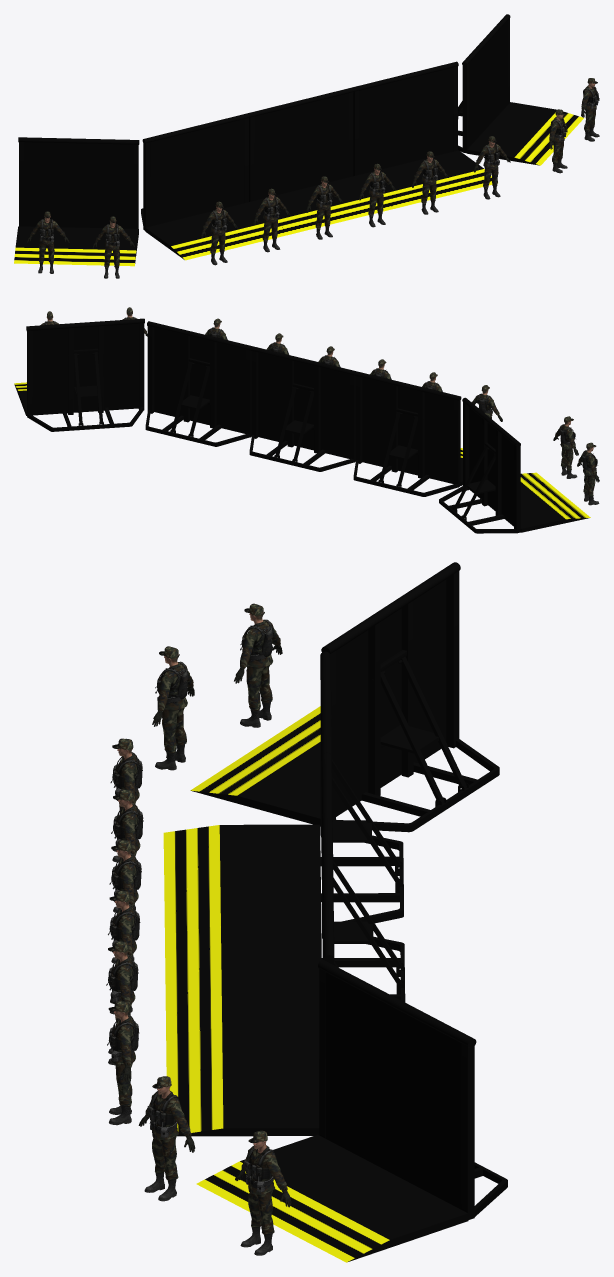
File: barricade_south.glb
The picture shows the model from 3 angles, top to bottom: view 1: azimuth 30°, elevation 25°; view 2: azimuth 150°, elevation 25°; view 3: azimuth 270°, elevation 25°; orthographic projection. The views are drawn at different scales.
Parts seen in each view (by area): view 1: Plane_0.003, Plane_0.001, Plane_0.002, Plane_0.005, Plane_0.004, Object_9.004, Object_9.016, Object_9, Object_9.003, Object_9.005, Object_9.017, Object_9.013 (+3 smaller); view 2: Plane_0.004, Plane_0.001, Plane_0.005, Plane_0.002, Plane_0.003, Object_9.013, Object_9.014, Object_9.017; view 3: Plane_0.004, Plane_0.003, Plane_0.001, Plane_0.005, Plane_0.002, Object_9.015, Object_9.012, Object_9.014, Object_9.013, Object_9.016, Object_9.005, Object_9.017 (+3 smaller).
Boxes of the visible parts, x1,y1,x2,y2 form: Plane_0.003: [14, 137, 139, 266]; Plane_0.001: [141, 113, 289, 260]; Plane_0.002: [352, 61, 492, 208]; Plane_0.005: [248, 87, 393, 234]; Plane_0.004: [458, 14, 583, 165]; Object_9.004: [306, 176, 343, 239]; Object_9.016: [473, 136, 510, 199]; Object_9: [253, 188, 290, 252]; Object_9.003: [359, 163, 395, 227]; Object_9.005: [412, 151, 448, 214]; Object_9.017: [201, 201, 237, 265]; Object_9.013: [92, 216, 134, 278]; Plane_0.004: [14, 318, 144, 431]; Plane_0.001: [353, 371, 462, 496]; Plane_0.005: [249, 346, 355, 471]; Plane_0.002: [145, 321, 252, 446]; Plane_0.003: [439, 397, 590, 533]; Object_9.013: [553, 416, 578, 478]; Object_9.014: [577, 442, 599, 505]; Object_9.017: [471, 385, 502, 421]; Plane_0.004: [196, 960, 507, 1262]; Plane_0.003: [190, 562, 499, 832]; Plane_0.001: [163, 651, 403, 933]; Plane_0.005: [165, 753, 405, 1034]; Plane_0.002: [166, 854, 338, 1136]; Object_9.015: [138, 1076, 195, 1201]; Object_9.012: [235, 1130, 291, 1255]; Object_9.014: [234, 603, 282, 727]; Object_9.013: [152, 646, 194, 770]; Object_9.016: [107, 1001, 139, 1125]; Object_9.005: [106, 941, 138, 1065]; Object_9.017: [110, 738, 142, 862].
Bounding box in the file's own units: 16.52 × 2.51 × 5.03.
95 materials, 90 textured.
